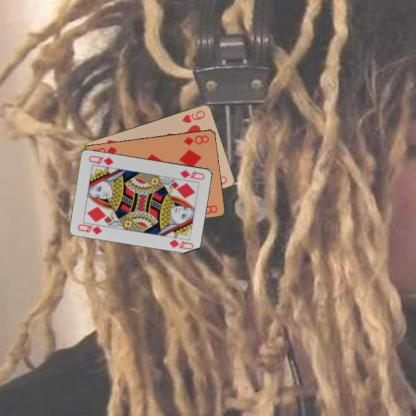8d: (181, 132, 210, 146)
9h: (179, 108, 206, 124)
Qd: (75, 219, 106, 236), (177, 167, 206, 181)
